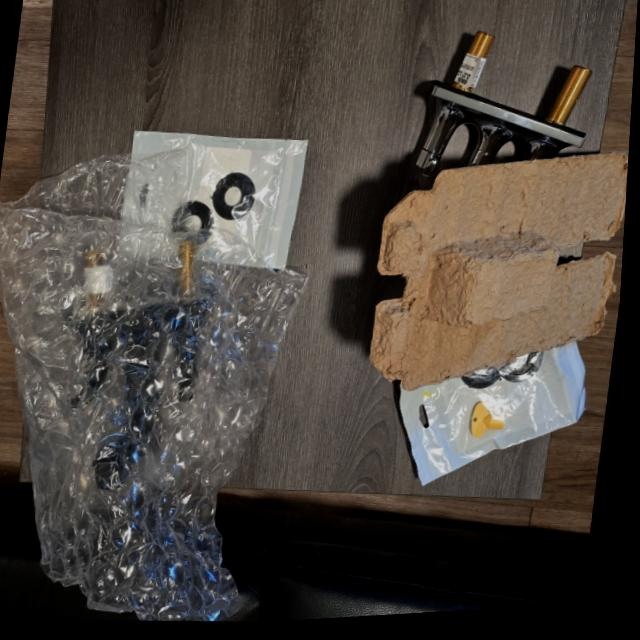10o: (415, 30, 589, 176)
12o: (398, 340, 584, 484)
13o: (130, 129, 306, 267)
9c: (0, 141, 306, 621)
